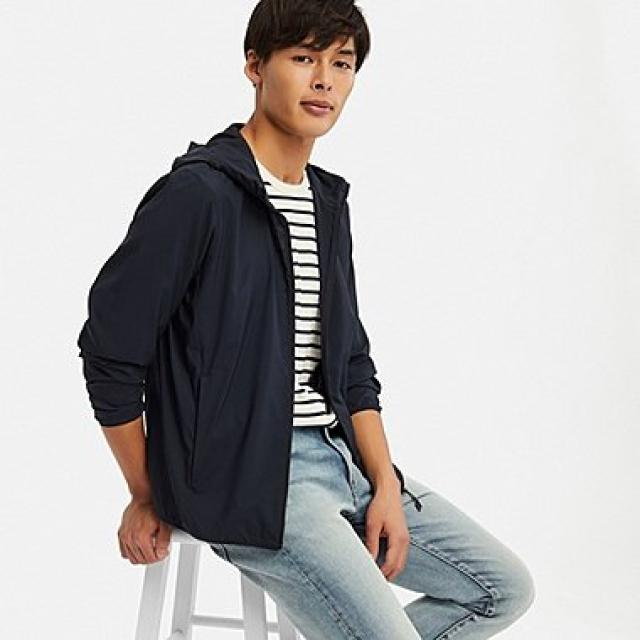human: (61, 0, 552, 640)
